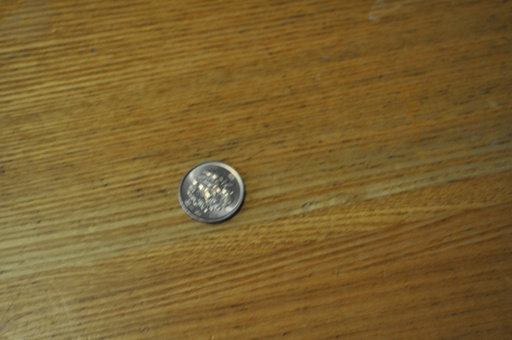100yen: (179, 162, 245, 223)
